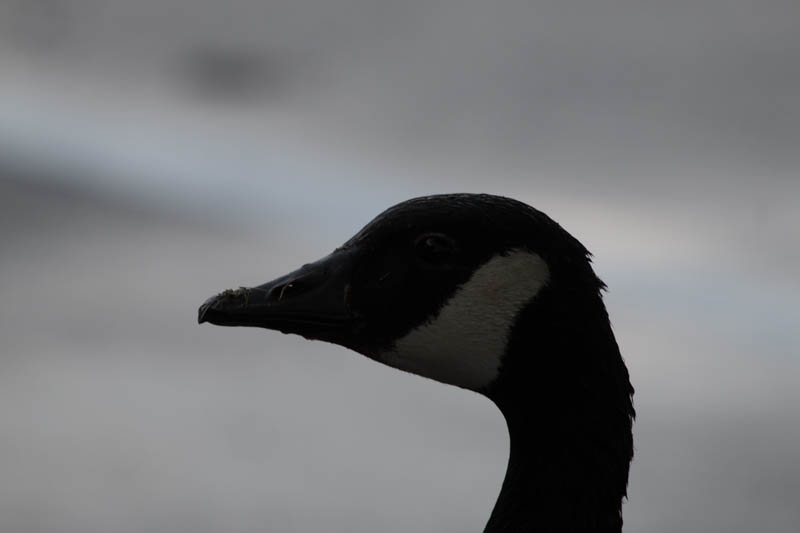goose-head: (197, 193, 630, 396)
